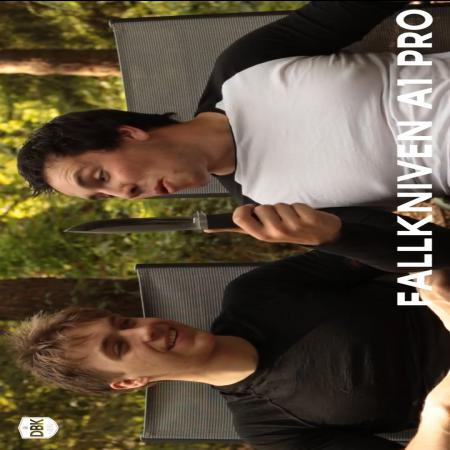long weapon: (52, 200, 304, 238)
